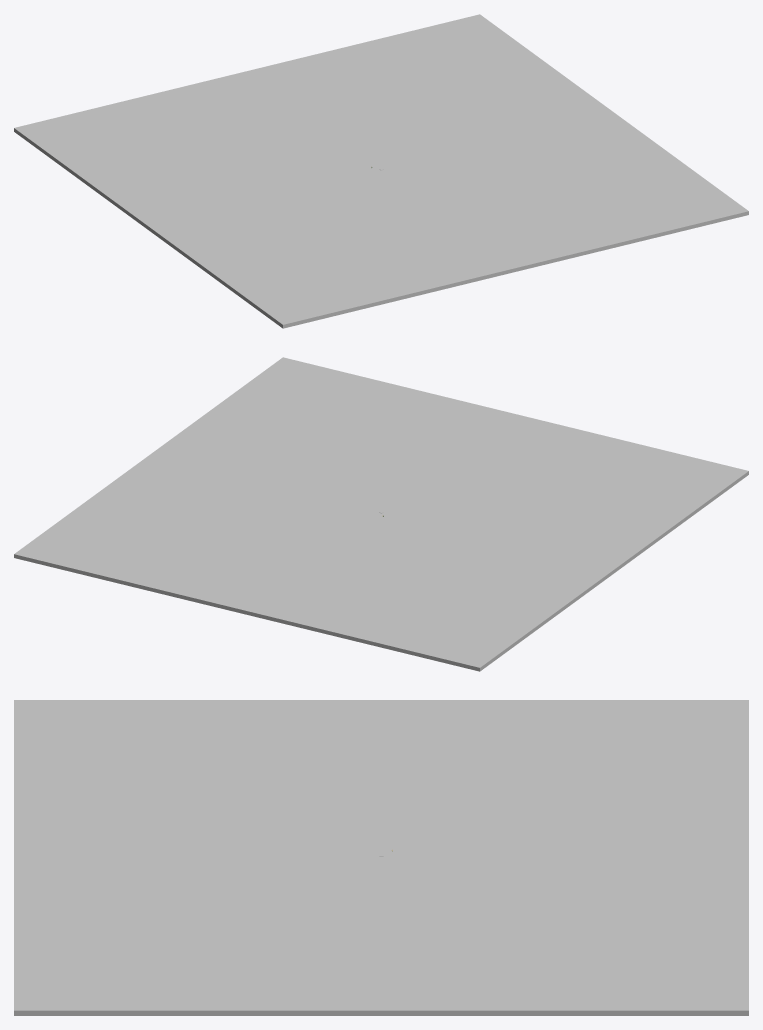
Rendered from avatar.obj.
The picture shows the model from 3 angles, top to bottom: view 1: azimuth 30°, elevation 25°; view 2: azimuth 150°, elevation 25°; view 3: azimuth 270°, elevation 25°; orthographic projection. The views are drawn at different scales.
Parts seen in each view (by area): view 1: Baseplate1, Baseplate2; view 2: Baseplate1, Baseplate2; view 3: Baseplate1, Baseplate2.
Boxes of the visible parts, x1,y1,x2,y2 form: Baseplate1: (14, 14, 748, 328); Baseplate2: (15, 15, 747, 324); Baseplate1: (14, 357, 748, 671); Baseplate2: (15, 358, 747, 667); Baseplate1: (14, 700, 748, 1015); Baseplate2: (14, 700, 748, 1009).
Bounding box in the file's own units: 2048 × 21.83 × 2048.
